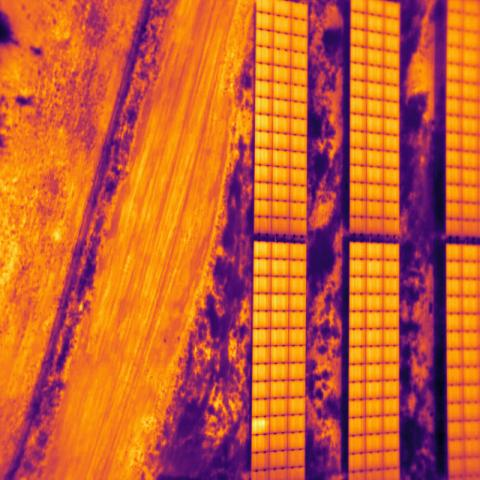fault: (252, 417, 268, 435)
